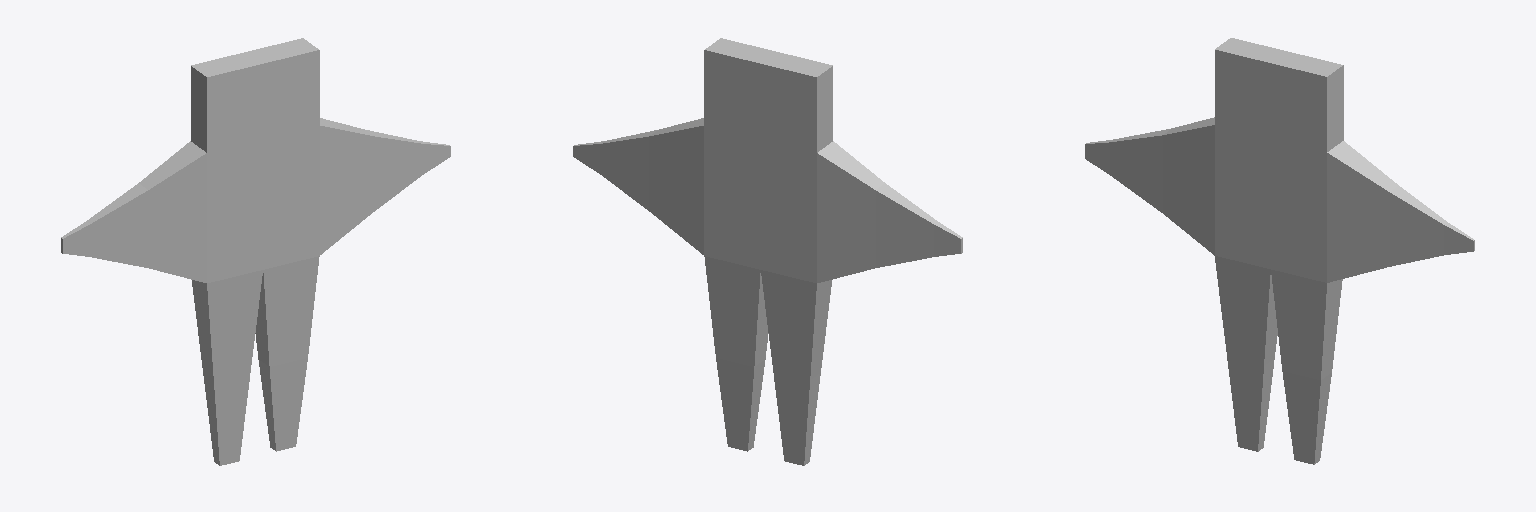
The model's file is fmodel.obj.
The picture shows the model from 3 angles: view 1: azimuth 30°, elevation 25°; view 2: azimuth 150°, elevation 25°; view 3: azimuth 330°, elevation 25°; orthographic projection.
Visible parts, largest first — view 1: Cube; view 2: Cube; view 3: Cube.
Boxes of the visible parts, <box> form: Cube: <box>61,38,450,465</box>; Cube: <box>573,38,962,465</box>; Cube: <box>1085,38,1474,464</box>.
Size of the model in its own units: 6.23 by 6.08 by 0.4545.